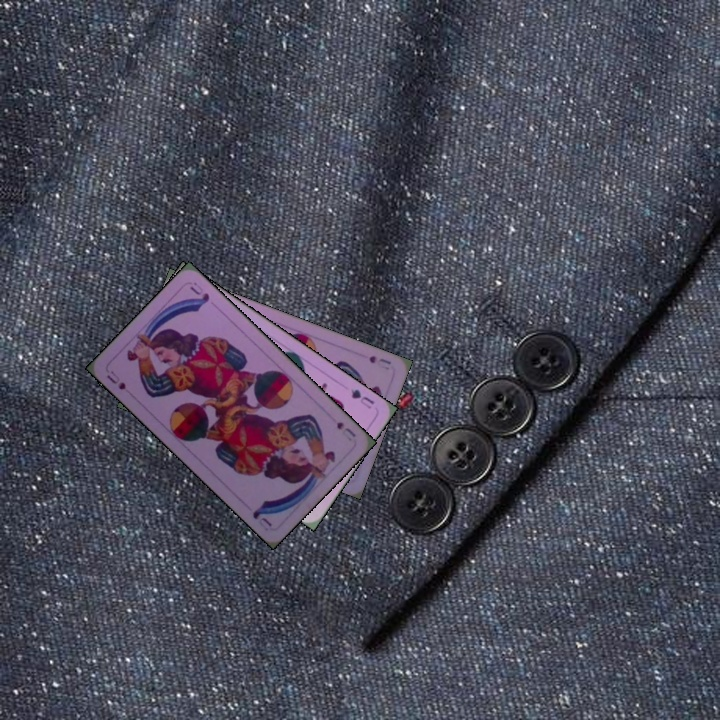GU: (347, 385, 377, 411)
SU: (332, 418, 358, 444), (103, 366, 129, 392), (365, 351, 394, 367)
